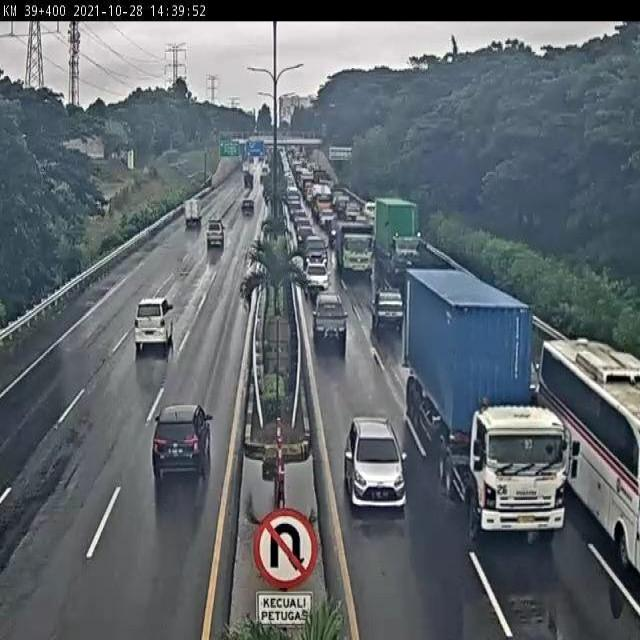big bus: (536, 332, 640, 568)
big truck: (406, 270, 569, 534), (374, 199, 416, 268), (334, 219, 371, 272)
car: (344, 416, 405, 509), (151, 406, 212, 478), (134, 296, 177, 347), (502, 339, 535, 396), (311, 288, 344, 335), (368, 284, 403, 327), (302, 232, 327, 263), (304, 259, 329, 285), (205, 221, 223, 248), (295, 226, 314, 246)
small truck: (182, 198, 203, 230)
